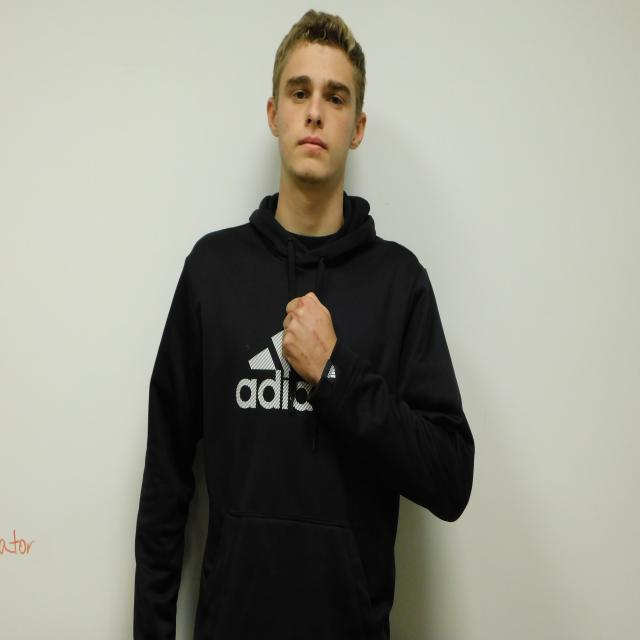sorry: (283, 292, 335, 381)
